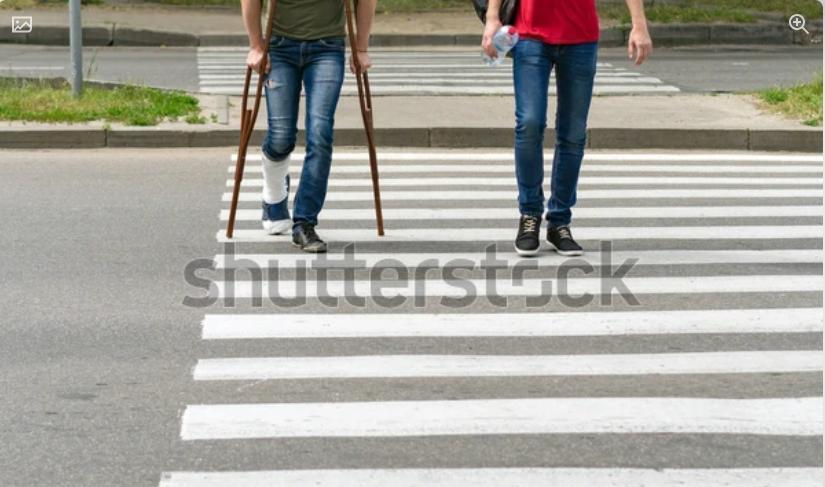crutches: (218, 0, 398, 252)
